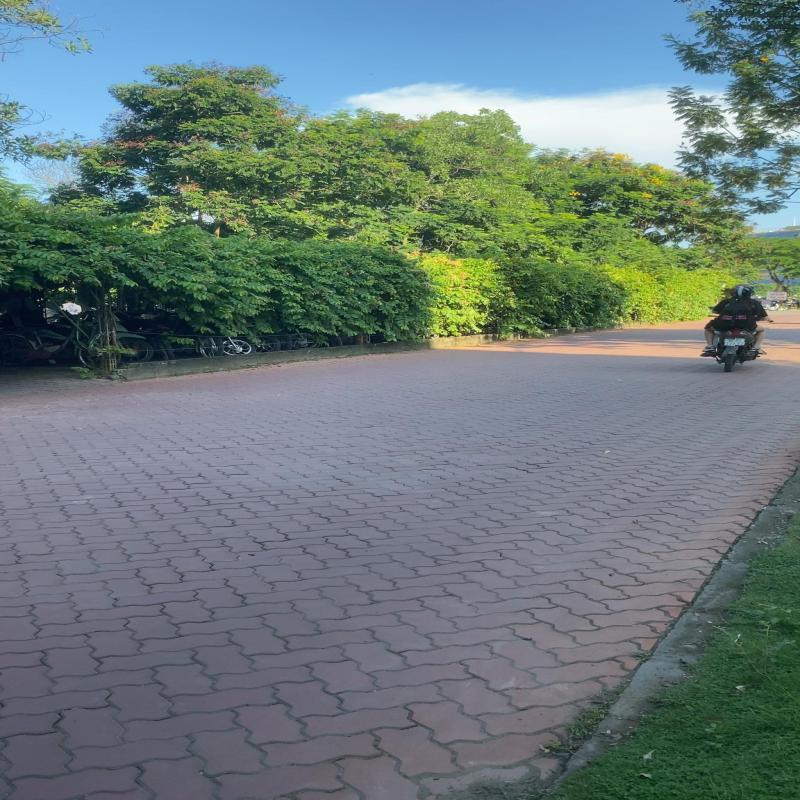helmet: (734, 286, 754, 298)
licenseplate: (722, 337, 747, 346)
motorcyclist: (699, 284, 770, 374)
